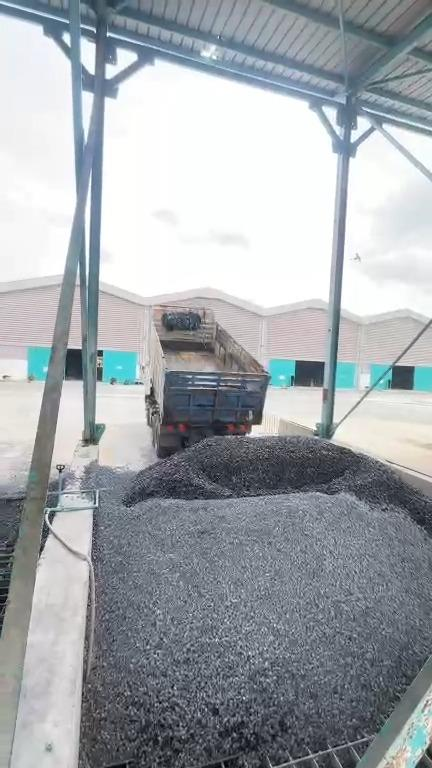gravel: (78, 437, 431, 767), (0, 489, 24, 553), (46, 479, 58, 507), (62, 470, 76, 490), (39, 523, 48, 553)
sand: (406, 439, 431, 450)
